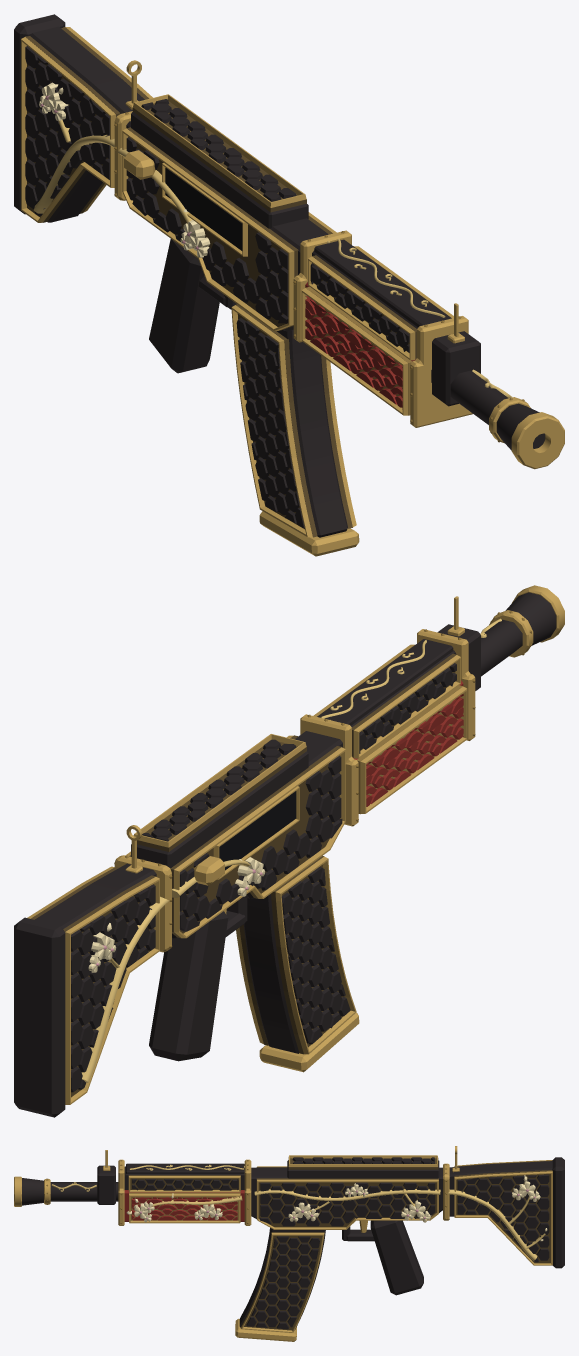
File: w_ar@ar_lacquer.glb
3 views of the same model, one above another, from view 1: azimuth 30°, elevation 25°; view 2: azimuth 150°, elevation 25°; view 3: azimuth 270°, elevation 25° (orthographic). The views are drawn at different scales.
Visible parts, largest first — view 1: stock_wzA__lac__p2a2526, body_wzA__lac__p2a2526, guard_wzN__gold__pc4a056, mag_wzA__lac__p2a2526, grip_wzB__lac__p2a2526, body_wzN__gold__pc4a056, mag_wzB__lac__p2a2526, mag_wzN__gold__pc4a056, barrel_wzB__lac__p2a2526, body_wzB__gnd__p5e4c2c, guard_wzA__red__p8a2e27, body_wzB__lac__p2a2526 (+16 smaller); view 2: stock_wzB__lac__p2a2526, stock_wzA__lac__p2a2526, body_wzA__lac__p2a2526, grip_wzB__lac__p2a2526, guard_wzN__gold__pc4a056, mag_wzA__lac__p2a2526, body_wzN__gold__pc4a056, mag_wzN__gold__pc4a056, mag_wzB__lac__p2a2526, stock_wzN__gold__pc4a056, body_wzB__gnd__p5e4c2c, guard_wzA__red__p8a2e27 (+16 smaller); view 3: body_wzA__lac__p2a2526, stock_wzA__lac__p2a2526, mag_wzA__lac__p2a2526, grip_wzB__lac__p2a2526, body_wzB__gnd__p5e4c2c, guard_wzN__gold__pc4a056, body_wzB__lac__p2a2526, body_wzN__gold__pc4a056, barrel_wzB__lac__p2a2526, guard_wzA__red__p8a2e27, mag_wzB__gnd__p5e4c2c, stock_wzB__gnd__p5e4c2c (+15 smaller).
Part boxes in pixels (left/top/right/bottom): stock_wzA__lac__p2a2526: left=25, top=26, right=144, bottom=222; body_wzA__lac__p2a2526: left=126, top=99, right=296, bottom=323; guard_wzN__gold__pc4a056: left=293, top=230, right=472, bottom=427; mag_wzA__lac__p2a2526: left=236, top=318, right=304, bottom=528; grip_wzB__lac__p2a2526: left=149, top=239, right=236, bottom=373; body_wzN__gold__pc4a056: left=122, top=94, right=336, bottom=330; mag_wzB__lac__p2a2526: left=277, top=329, right=347, bottom=537; mag_wzN__gold__pc4a056: left=231, top=305, right=359, bottom=556; barrel_wzB__lac__p2a2526: left=431, top=331, right=545, bottom=450; body_wzB__gnd__p5e4c2c: left=126, top=101, right=332, bottom=330; guard_wzA__red__p8a2e27: left=305, top=282, right=415, bottom=409; body_wzB__lac__p2a2526: left=126, top=112, right=328, bottom=331; stock_wzB__lac__p2a2526: left=14, top=917, right=65, bottom=1117; stock_wzA__lac__p2a2526: left=34, top=863, right=156, bottom=1092; body_wzA__lac__p2a2526: left=142, top=739, right=342, bottom=931; grip_wzB__lac__p2a2526: left=149, top=897, right=247, bottom=1061; guard_wzN__gold__pc4a056: left=300, top=629, right=475, bottom=826; mag_wzA__lac__p2a2526: left=281, top=866, right=350, bottom=1044; body_wzN__gold__pc4a056: left=125, top=734, right=345, bottom=938; mag_wzN__gold__pc4a056: left=236, top=856, right=359, bottom=1072; mag_wzB__lac__p2a2526: left=243, top=894, right=299, bottom=1053; stock_wzN__gold__pc4a056: left=27, top=855, right=171, bottom=1104; body_wzB__gnd__p5e4c2c: left=129, top=735, right=341, bottom=938; guard_wzA__red__p8a2e27: left=353, top=680, right=463, bottom=806; body_wzA__lac__p2a2526: left=259, top=1157, right=435, bottom=1226; stock_wzA__lac__p2a2526: left=449, top=1161, right=552, bottom=1262; mag_wzA__lac__p2a2526: left=246, top=1236, right=319, bottom=1329; grip_wzB__lac__p2a2526: left=342, top=1220, right=423, bottom=1295; body_wzB__gnd__p5e4c2c: left=256, top=1158, right=438, bottom=1227; guard_wzN__gold__pc4a056: left=118, top=1159, right=251, bottom=1225; body_wzB__lac__p2a2526: left=251, top=1160, right=442, bottom=1218; body_wzN__gold__pc4a056: left=257, top=1155, right=438, bottom=1229; barrel_wzB__lac__p2a2526: left=22, top=1165, right=118, bottom=1205; guard_wzA__red__p8a2e27: left=124, top=1190, right=244, bottom=1221; mag_wzB__gnd__p5e4c2c: left=240, top=1232, right=324, bottom=1330; stock_wzB__gnd__p5e4c2c: left=454, top=1160, right=552, bottom=1263.
Size of the model in its own units: 0.1122 by 0.4529 by 1.19.
